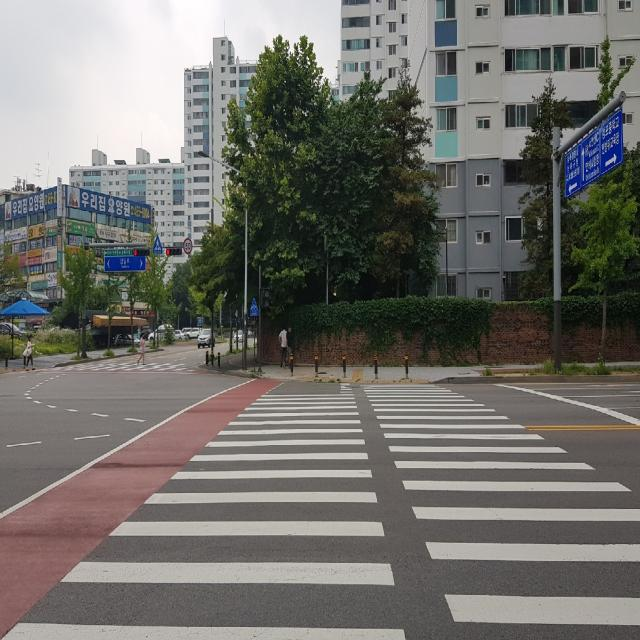횡단보도: (0, 382, 640, 640), (68, 358, 194, 372)
